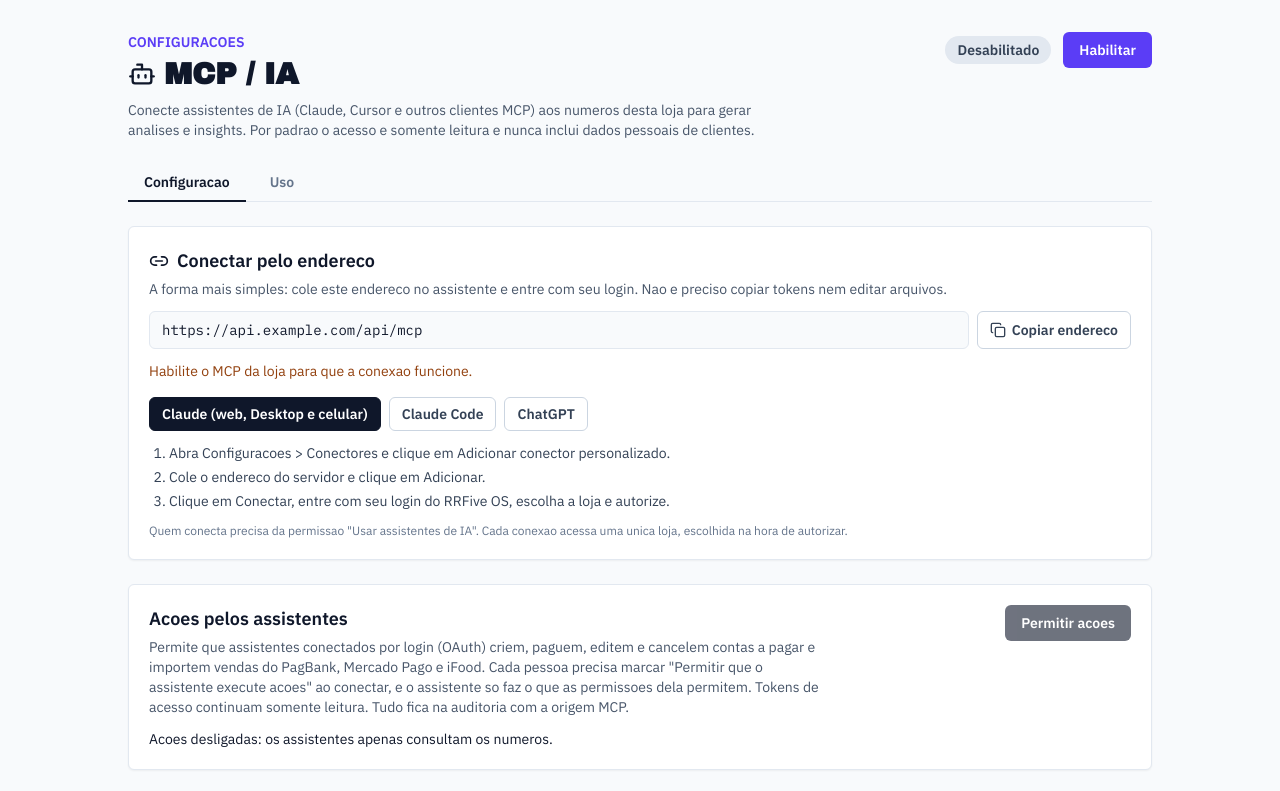
Test: McpSettingsClient › enables the MCP keeping every area
Click the button "Habilitar".
click(1108, 50)  # box [1063,32,1152,68]
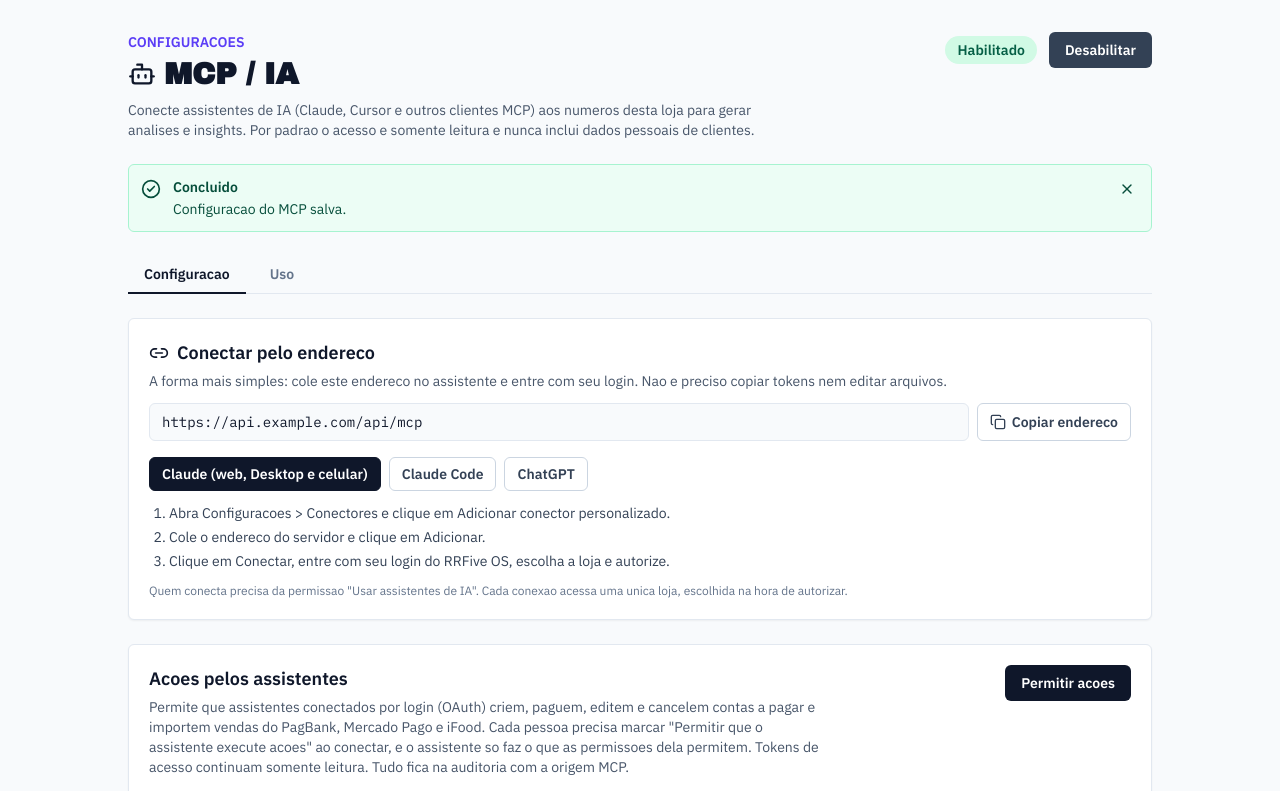
Now the text "Habilitado" is shown, box [946,36,1037,64]
